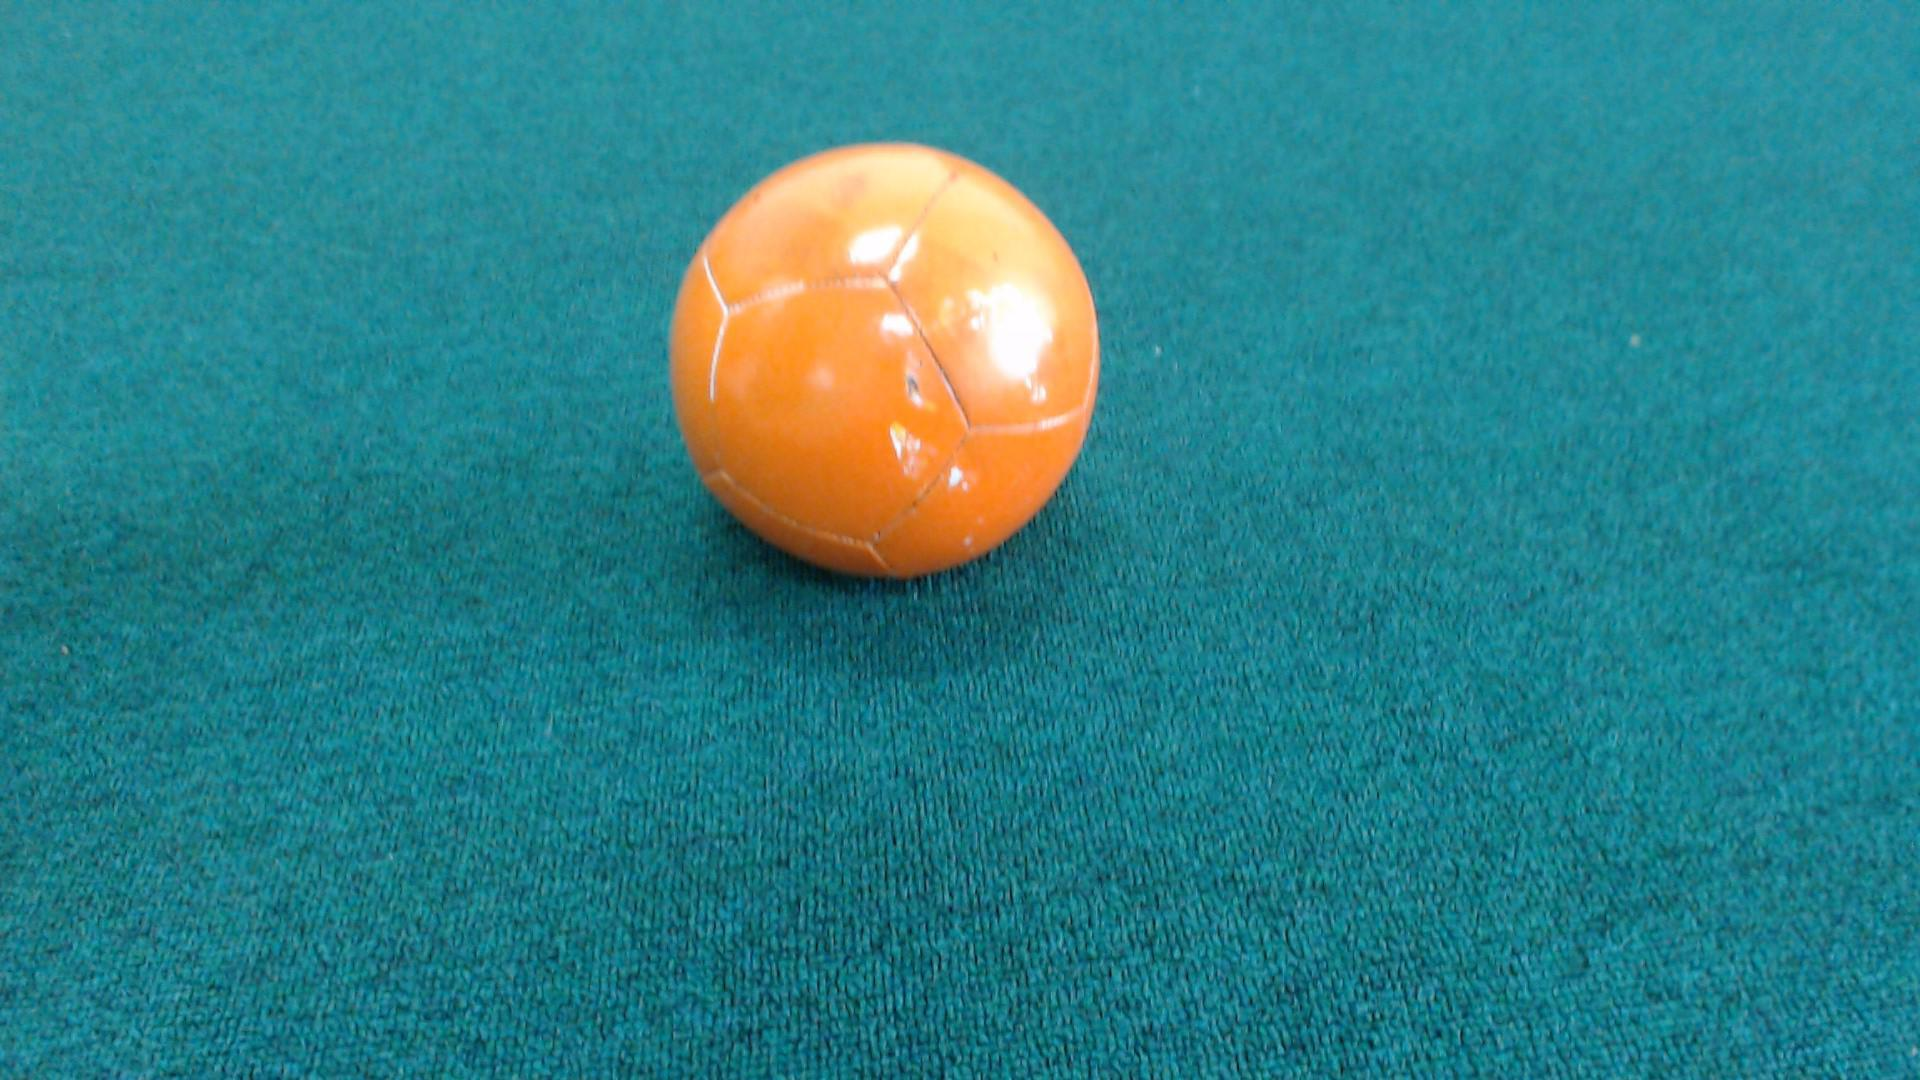bola: (626, 124, 1134, 611)
